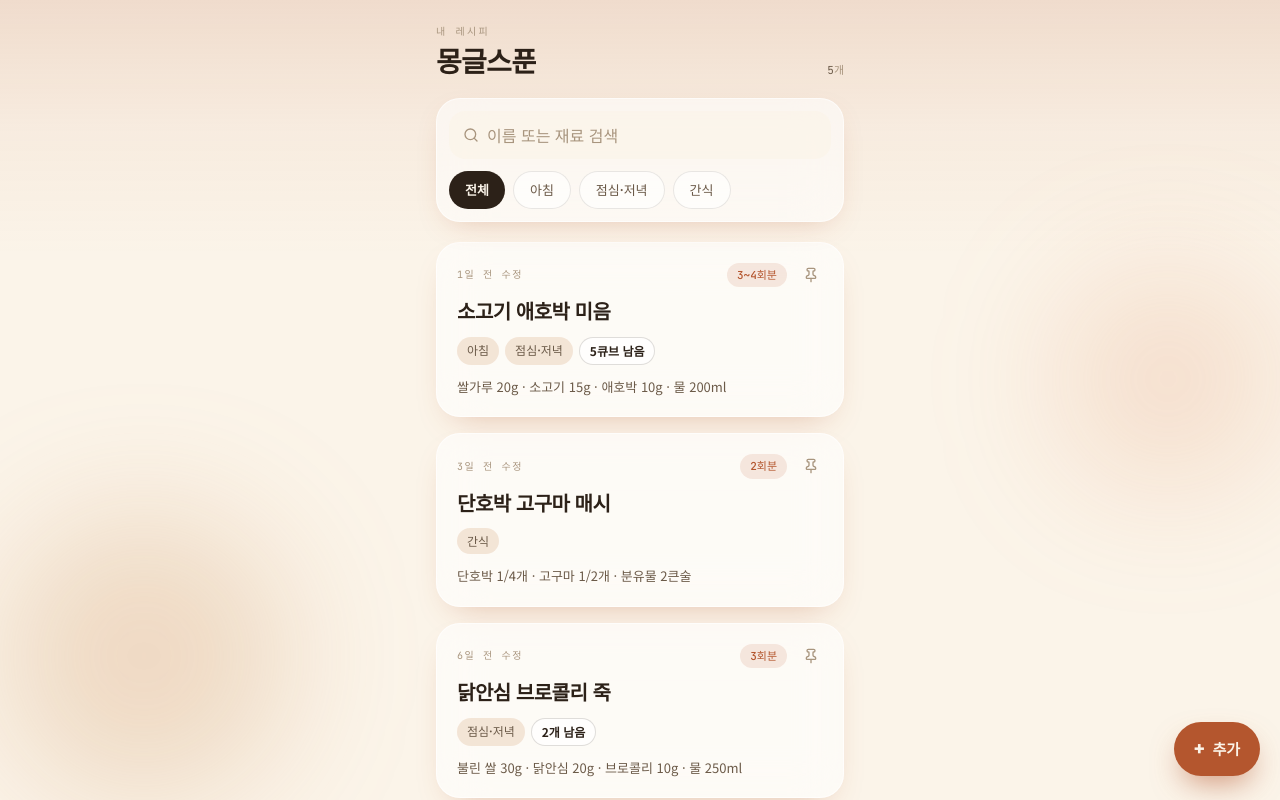
text fields are at least 16px › in the password dialog
Expected: the heading "소고기 애호박 미음" is shown, x1=457 y1=296 x2=610 y2=325
Click the button "+ 추가" at (1217, 749), box x1=1174 y1=722 x2=1260 y2=776
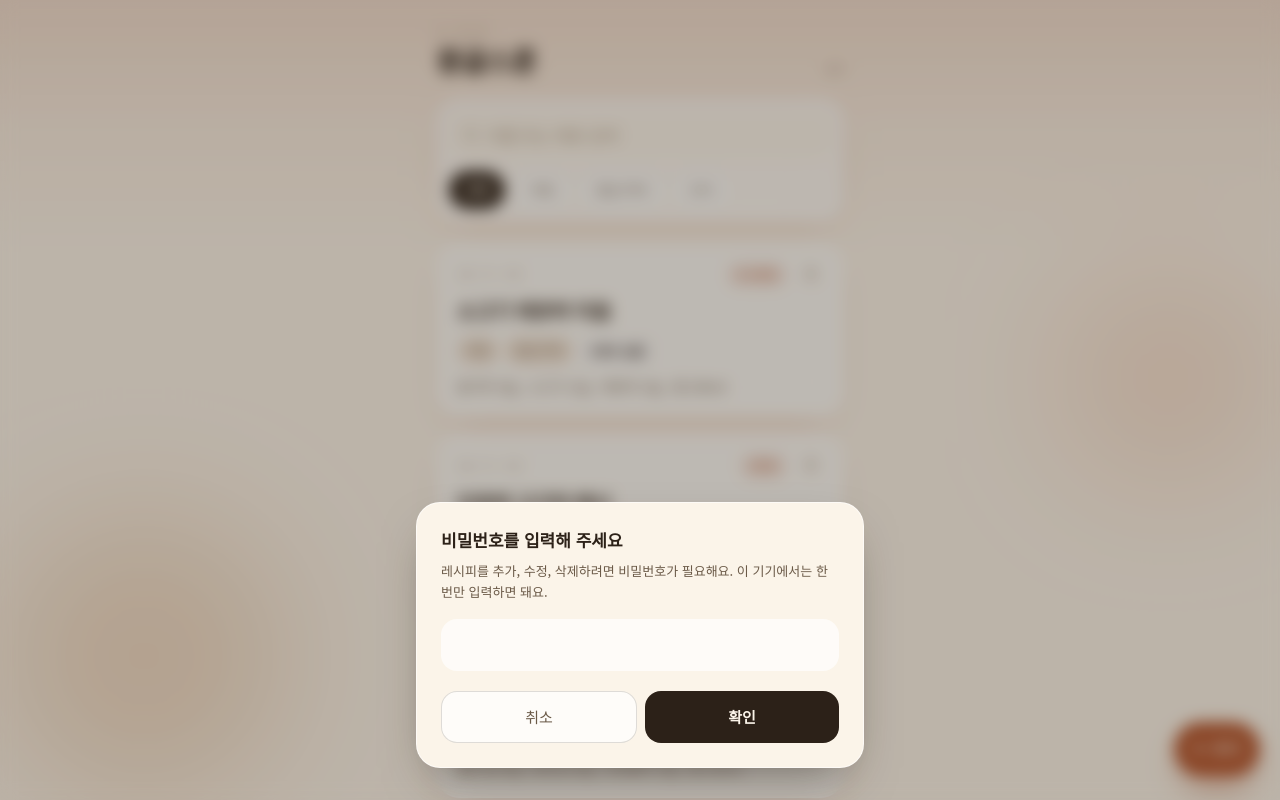
Now the dialog named "비밀번호 입력" is shown, box x1=416 y1=502 x2=864 y2=768
